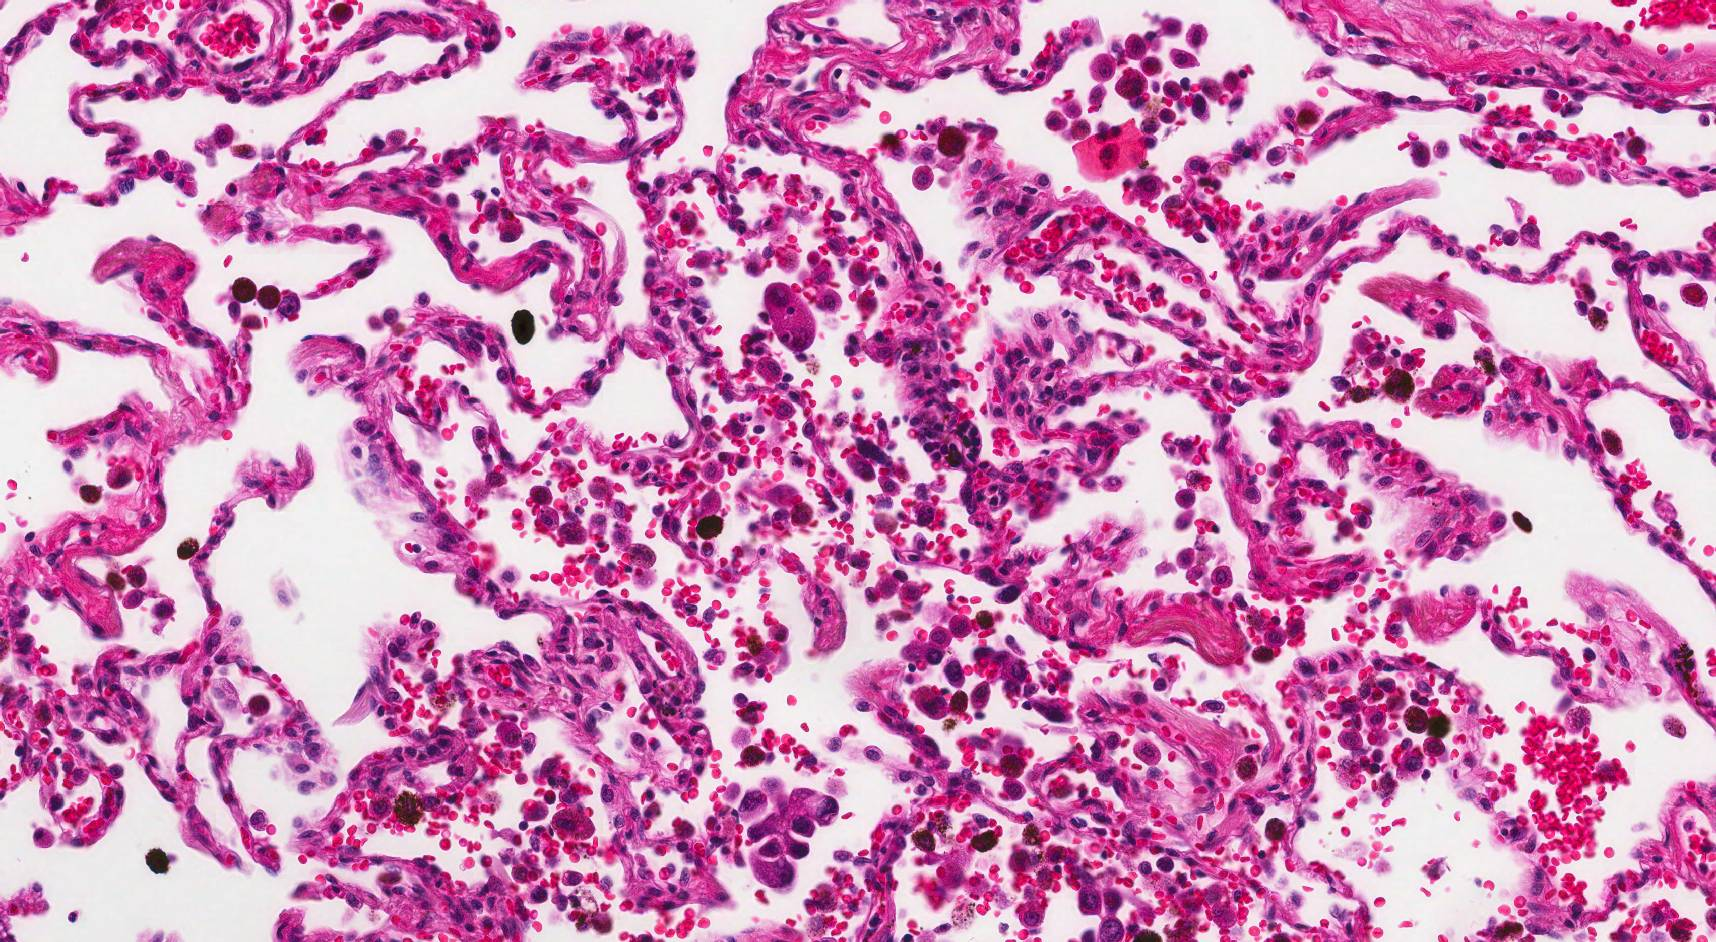stas: (734, 779, 845, 891)
